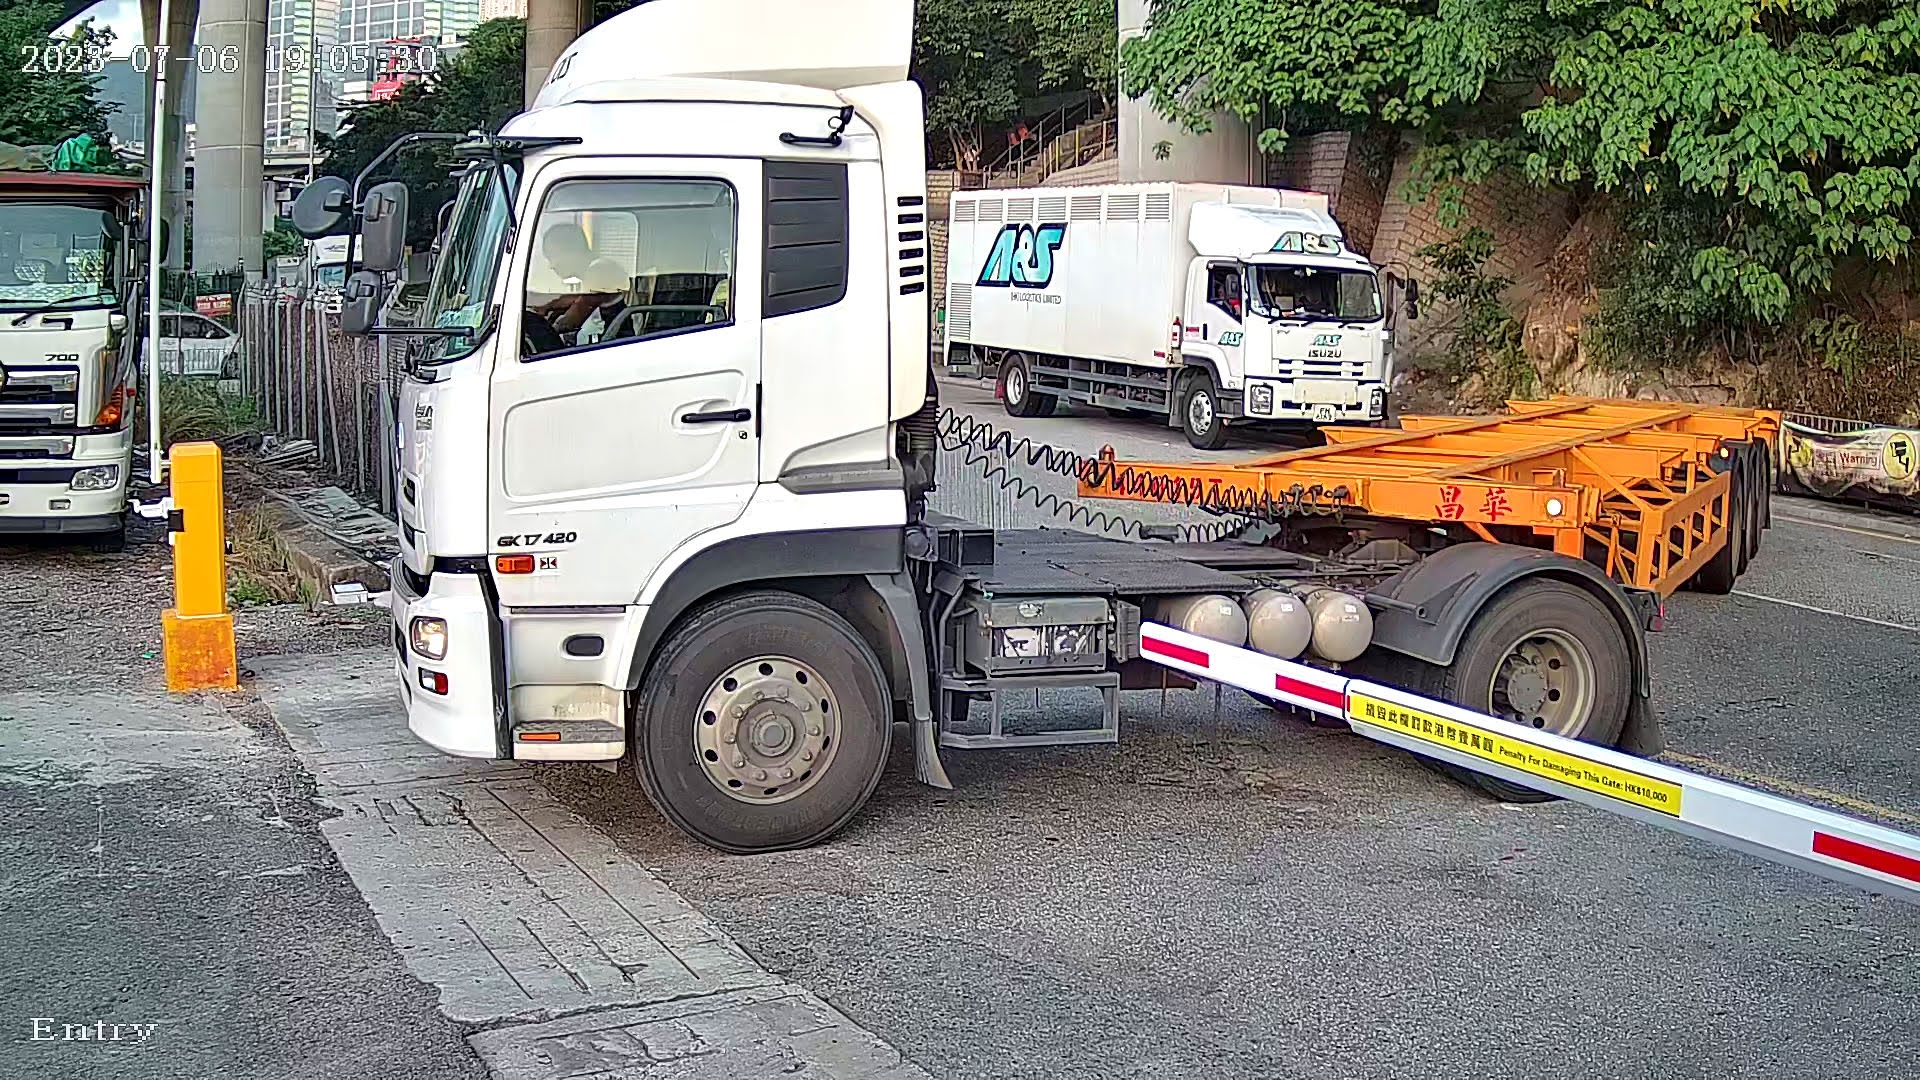truck: (328, 1, 1859, 861)
